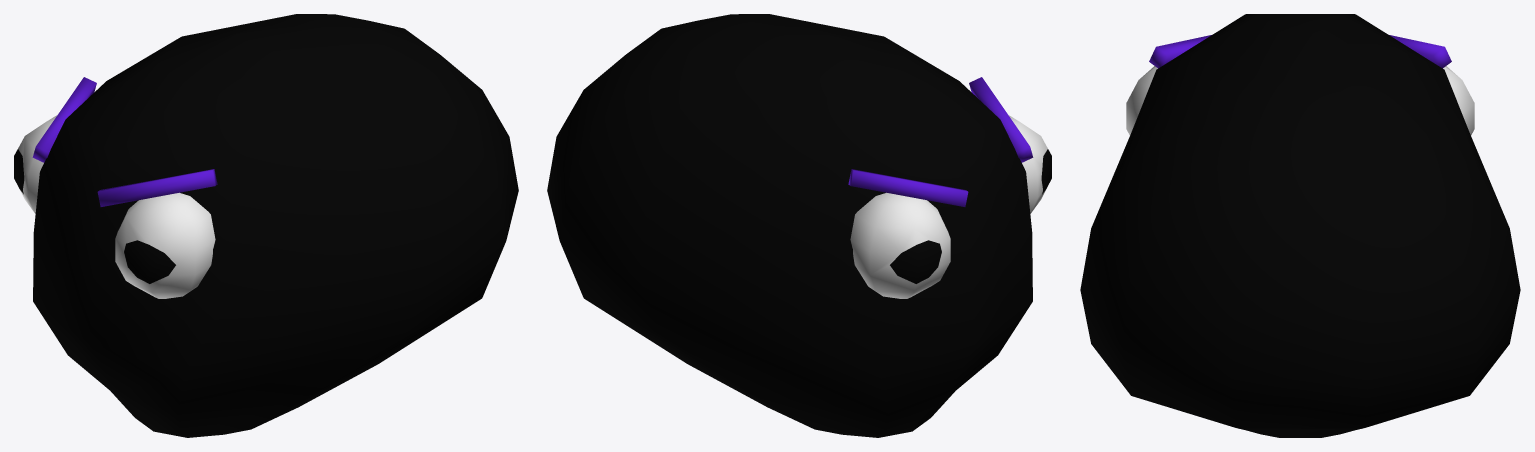
The model's file is fantasma 1.fbx.
3 renders of one model, left to right at view 1: azimuth 30°, elevation 25°; view 2: azimuth 150°, elevation 25°; view 3: azimuth 270°, elevation 25°, orthographic. The views are drawn at different scales.
Parts seen in each view (by area): view 1: Sphere; view 2: Sphere; view 3: Sphere.
Boxes of the visible parts, x1,y1,x2,y2 form: Sphere: [14, 14, 518, 437]; Sphere: [547, 14, 1051, 437]; Sphere: [1080, 14, 1520, 437].
Bounding box in the file's own units: 253 × 208 × 200.
